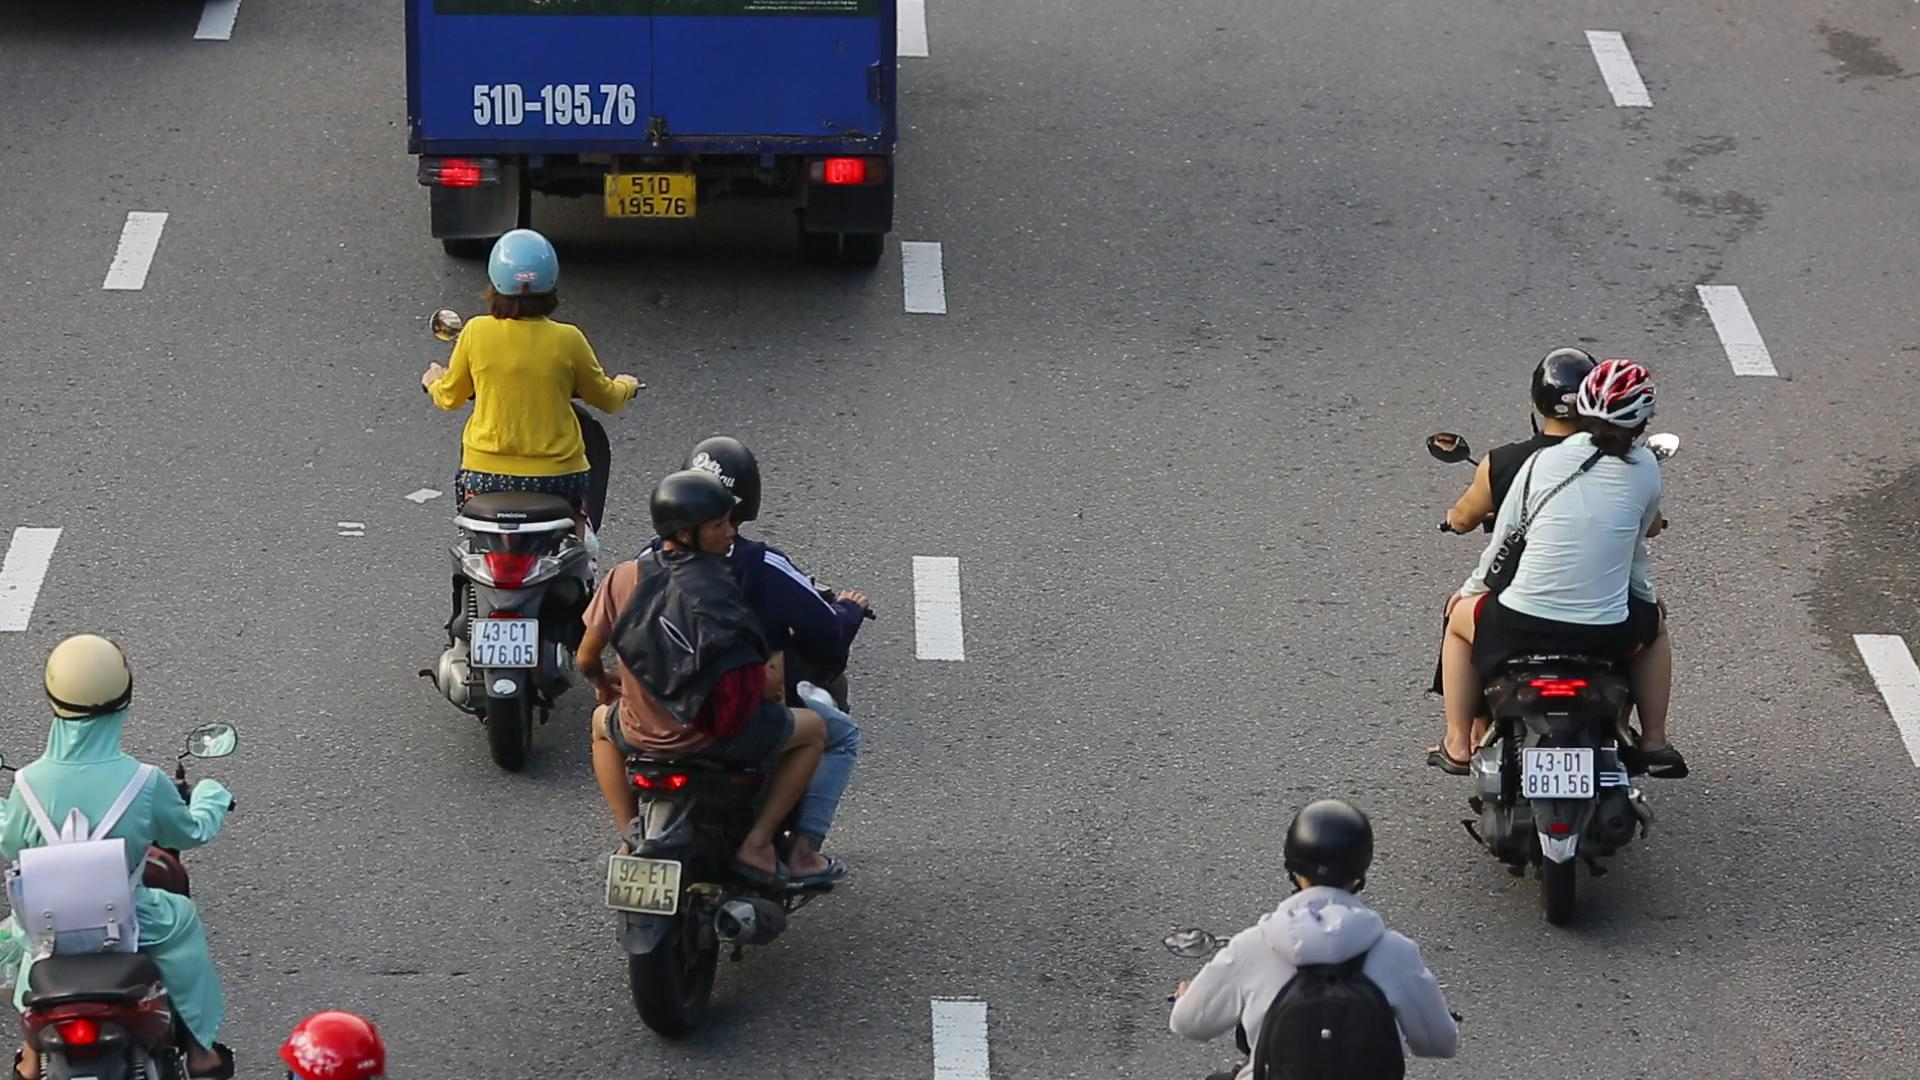motobike: (574, 436, 886, 1042), (1416, 340, 1697, 943), (409, 224, 636, 774)
